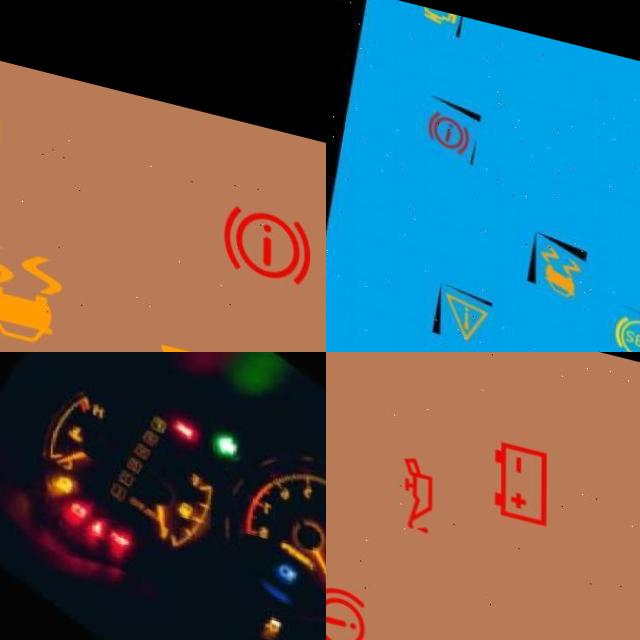High Engine Coolant Temperature: (71, 415, 91, 438)
Seat Belt: (93, 510, 110, 531)
